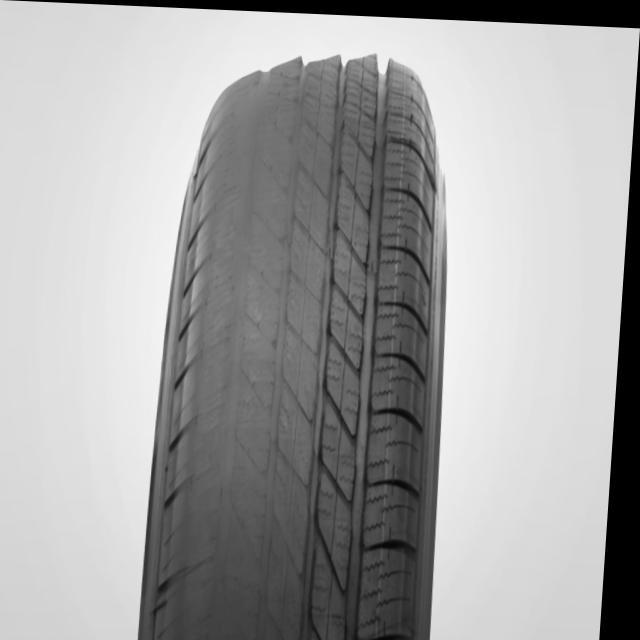Flat spots: (192, 63, 302, 638)
Non-defective: (324, 57, 451, 639)
